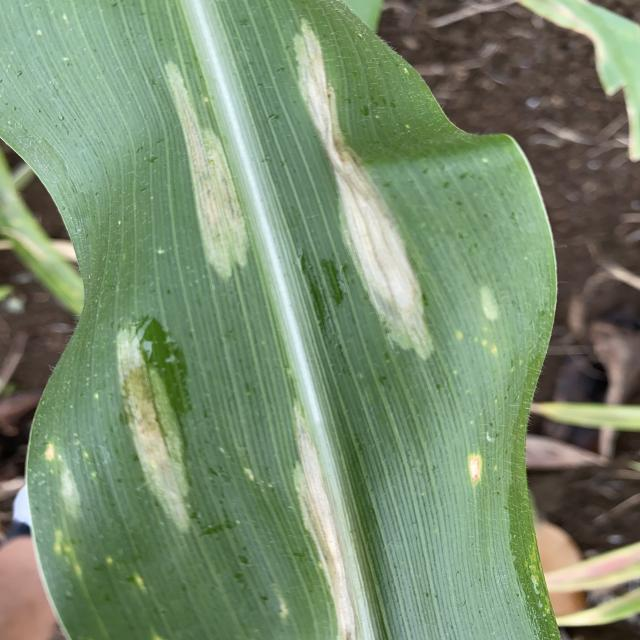Corn_Leaf_Blight: (28, 0, 559, 640)
